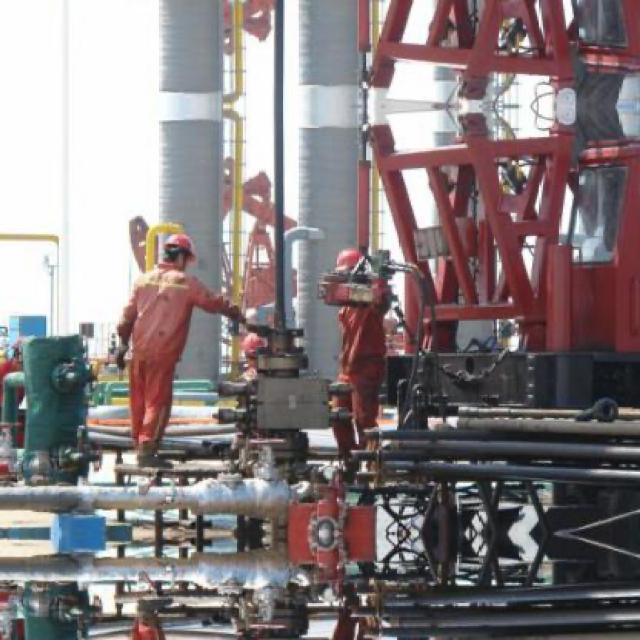helmet: (332, 247, 368, 291), (157, 225, 192, 270)
